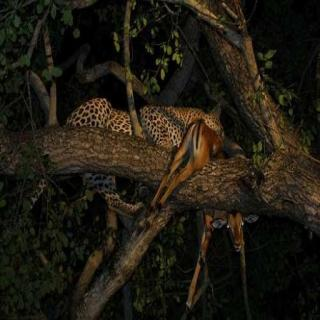Leopard: (55, 82, 268, 210)
